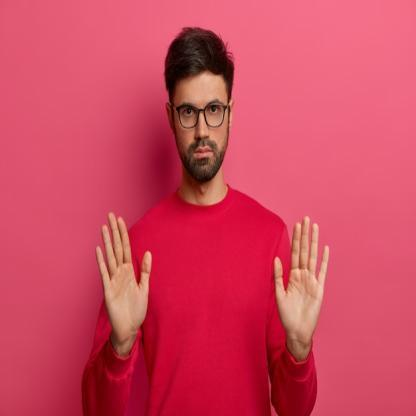stop: (92, 205, 154, 345), (274, 213, 332, 344)
